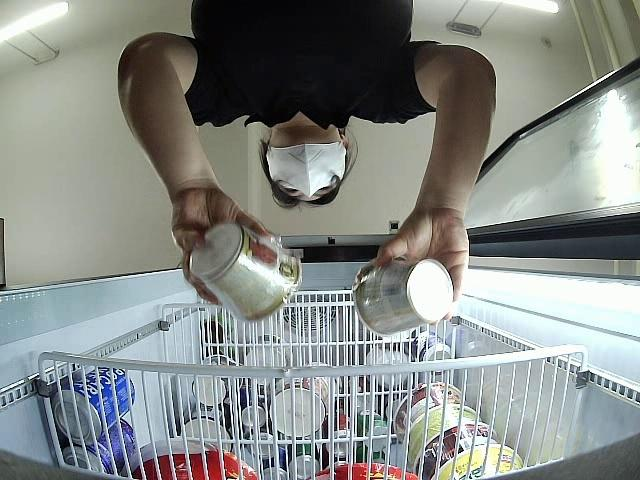00_hand: (171, 187, 271, 301), (373, 209, 469, 325)
04_chapagetti_S: (189, 222, 303, 323), (352, 257, 454, 337)
